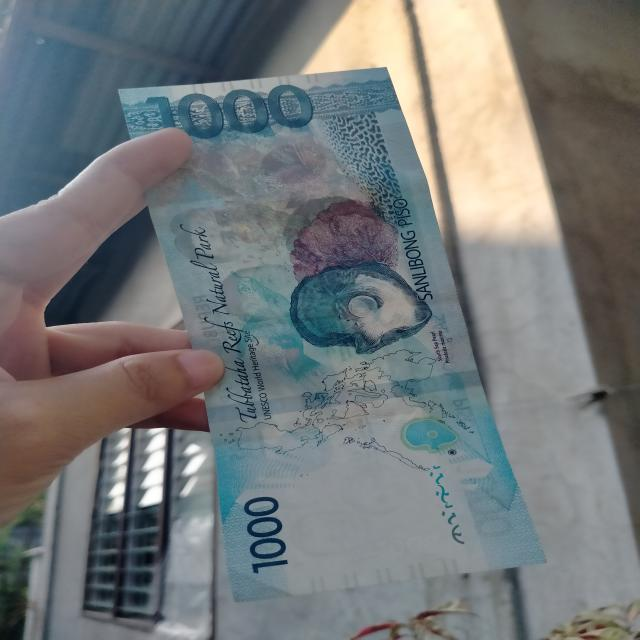security_thread: (206, 367, 486, 426)
see_through_mark: (424, 462, 476, 548)
value_watermark: (369, 531, 459, 564)
watermark: (284, 463, 438, 558)
